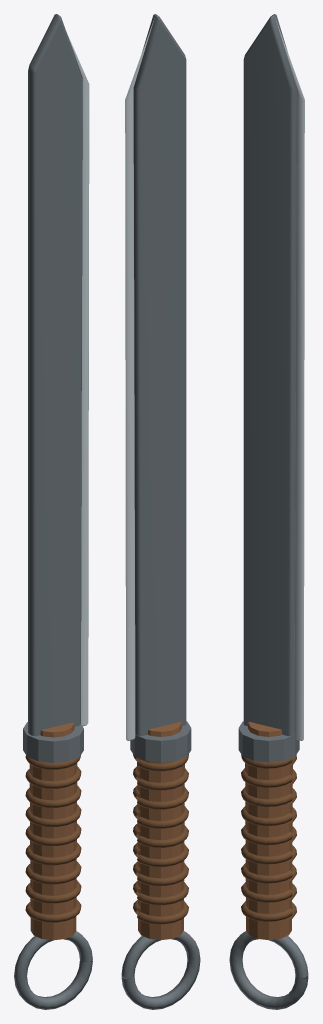
Rendered from HanSteelBlade.fbx.
3 renders of one model, left to right at view 1: azimuth 30°, elevation 25°; view 2: azimuth 210°, elevation 25°; view 3: azimuth 330°, elevation 25°, orthographic.
Parts seen in each view (by area): view 1: HanSteelBlade; view 2: HanSteelBlade; view 3: HanSteelBlade.
Part boxes in pixels (x1=…): HanSteelBlade: x1=14, y1=14, x2=92, y2=1009; HanSteelBlade: x1=121, y1=14, x2=200, y2=1009; HanSteelBlade: x1=229, y1=14, x2=308, y2=1009.
Bounding box in the file's own units: 8.03 × 101 × 5.6.
